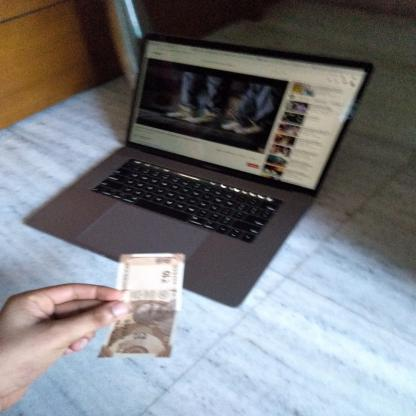New10Front: (121, 254, 177, 360)
